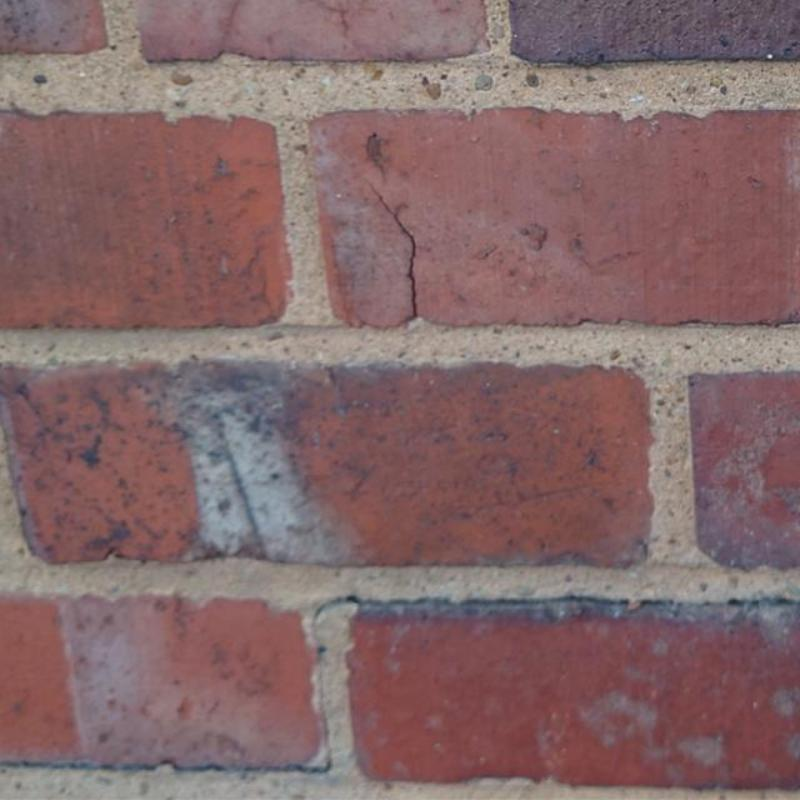pothole: (0, 592, 799, 774), (367, 180, 417, 317)
